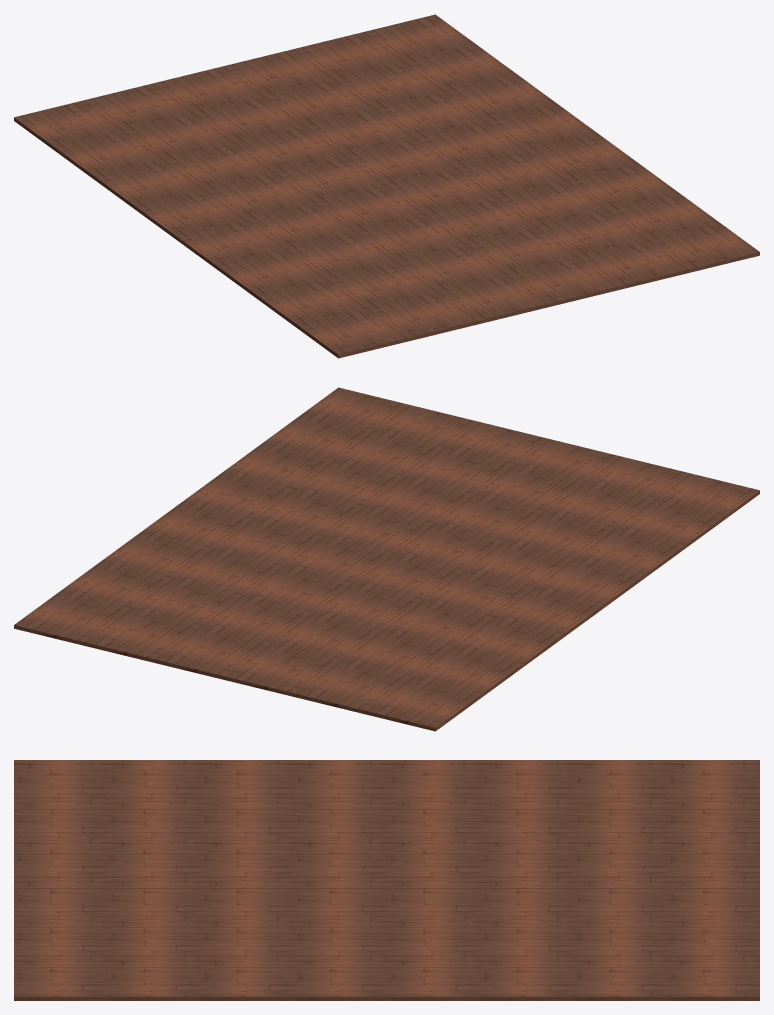
The model's file is 1ST_Floor.fbx.
The picture shows the model from 3 angles, top to bottom: view 1: azimuth 30°, elevation 25°; view 2: azimuth 150°, elevation 25°; view 3: azimuth 270°, elevation 25°; orthographic projection. The views are drawn at different scales.
Parts seen in each view (by area): view 1: Floor_Tile.001; view 2: Floor_Tile.001; view 3: Floor_Tile.001.
Boxes of the visible parts, x1=… form: Floor_Tile.001: x1=14, y1=14, x2=759, y2=358; Floor_Tile.001: x1=14, y1=387, x2=759, y2=731; Floor_Tile.001: x1=14, y1=760, x2=759, y2=1000.
Size of the model in its own units: 1200 by 10 by 1600.
Materials: 1 (1 with a texture image).
